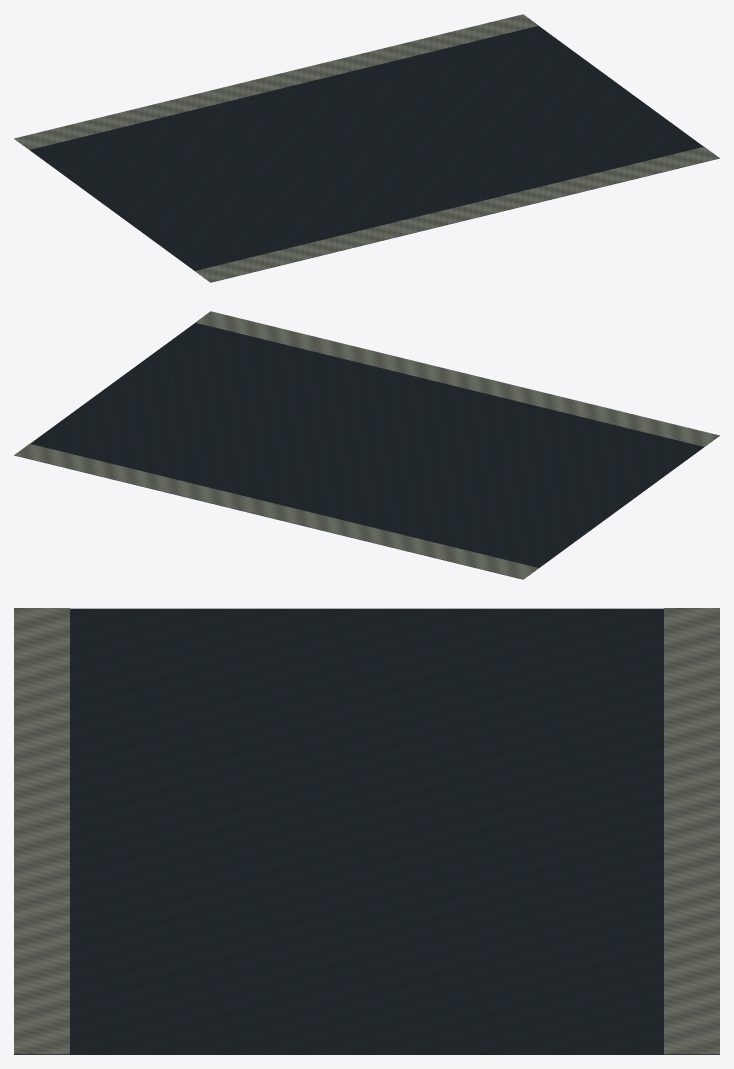
File: road_highway_regional_16m_ShadowProxy.glb
3 views of the same model, one above another, from view 1: azimuth 30°, elevation 25°; view 2: azimuth 150°, elevation 25°; view 3: azimuth 270°, elevation 25° (orthographic). The views are drawn at different scales.
Parts seen in each view (by area): view 1: road_highway_regional_16m__surface.003, road_highway_regional_16m__shoulders.003; view 2: road_highway_regional_16m__surface.003, road_highway_regional_16m__shoulders.003; view 3: road_highway_regional_16m__surface.003, road_highway_regional_16m__shoulders.003.
Part boxes in pixels (box(x1,y1,x2,y2)): road_highway_regional_16m__surface.003: box(14, 26, 719, 282); road_highway_regional_16m__shoulders.003: box(14, 14, 719, 282); road_highway_regional_16m__surface.003: box(14, 323, 719, 579); road_highway_regional_16m__shoulders.003: box(14, 311, 719, 579); road_highway_regional_16m__surface.003: box(14, 608, 719, 1054); road_highway_regional_16m__shoulders.003: box(14, 608, 719, 1054).
Bounding box in the file's own units: 16 × 0.009 × 10.7.
Materials: 2 (2 with a texture image).
